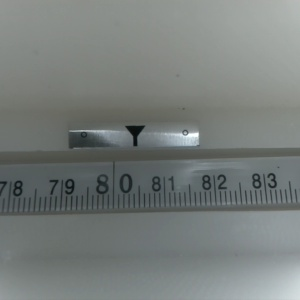0: (118, 174, 132, 193)
1: (166, 175, 173, 191)
2: (216, 174, 226, 189)
3: (267, 173, 277, 189)
7: (48, 180, 58, 195), (0, 181, 7, 196)
8: (95, 174, 108, 194), (201, 174, 211, 190), (13, 180, 23, 196), (251, 173, 261, 189), (150, 176, 160, 191)
9: (64, 179, 75, 195)
finger: (122, 126, 146, 147)
